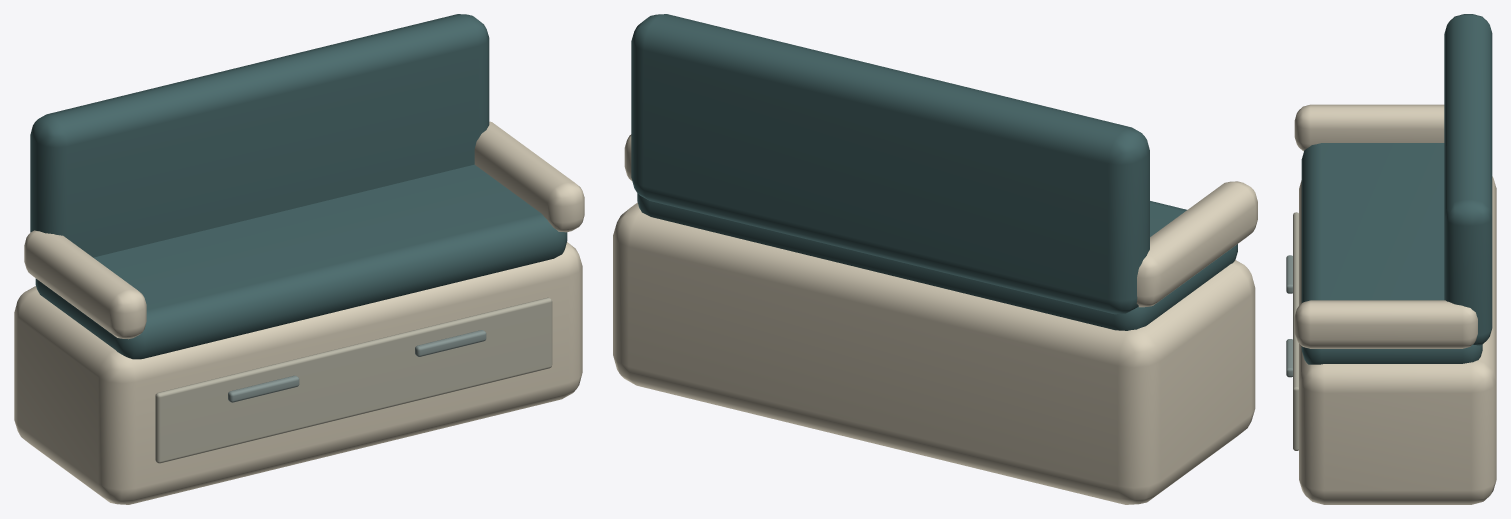
The model's file is interior-bench-2m.glb.
The picture shows the model from 3 angles, left to right: view 1: azimuth 30°, elevation 25°; view 2: azimuth 150°, elevation 25°; view 3: azimuth 270°, elevation 25°; orthographic projection. The views are drawn at different scales.
Parts seen in each view (by area): view 1: interior-bench-2m / 10 • slate upholstery, interior-bench-2m / 01 • warm porcelain paint, interior-bench-2m / 02 • inner shell, interior-bench-2m / 05 • brushed titanium; view 2: interior-bench-2m / 01 • warm porcelain paint, interior-bench-2m / 10 • slate upholstery; view 3: interior-bench-2m / 01 • warm porcelain paint, interior-bench-2m / 10 • slate upholstery, interior-bench-2m / 02 • inner shell, interior-bench-2m / 05 • brushed titanium.
Boxes of the visible parts, x1,y1,x2,y2 form: interior-bench-2m / 10 • slate upholstery: [30, 14, 567, 359]; interior-bench-2m / 01 • warm porcelain paint: [14, 121, 584, 504]; interior-bench-2m / 02 • inner shell: [155, 297, 552, 463]; interior-bench-2m / 05 • brushed titanium: [228, 330, 486, 402]; interior-bench-2m / 01 • warm porcelain paint: [613, 134, 1257, 504]; interior-bench-2m / 10 • slate upholstery: [631, 14, 1237, 330]; interior-bench-2m / 01 • warm porcelain paint: [1294, 104, 1496, 504]; interior-bench-2m / 10 • slate upholstery: [1301, 14, 1492, 364]; interior-bench-2m / 02 • inner shell: [1293, 212, 1298, 450]; interior-bench-2m / 05 • brushed titanium: [1286, 255, 1292, 377].
Size of the model in its own units: 1.8 by 1.16 by 0.745.
